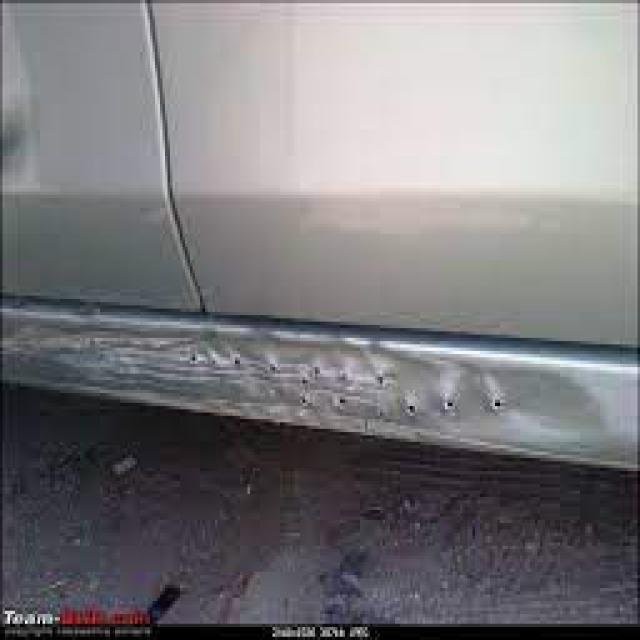RunningBoard-Dent: (5, 305, 623, 458)
